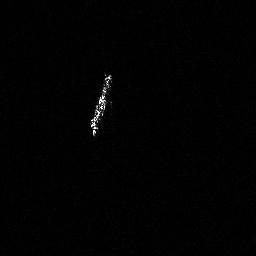ship: (86, 69, 114, 138)
